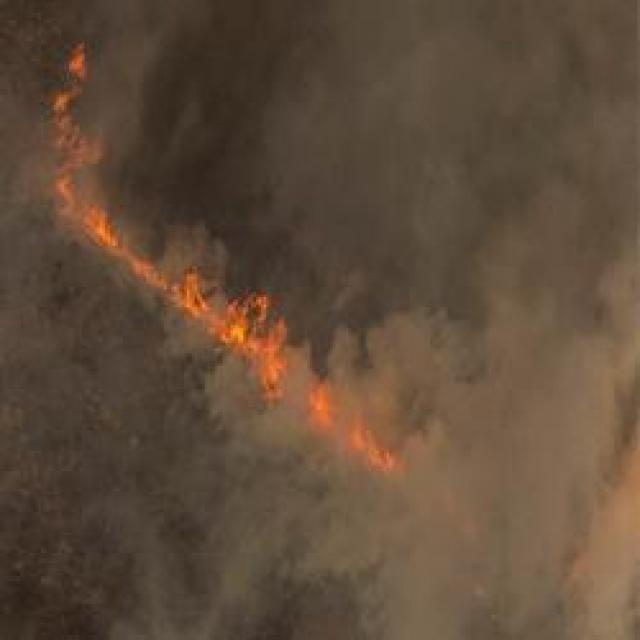Fire: (32, 98, 308, 447)
Smoke: (303, 0, 640, 640), (20, 384, 640, 640)
